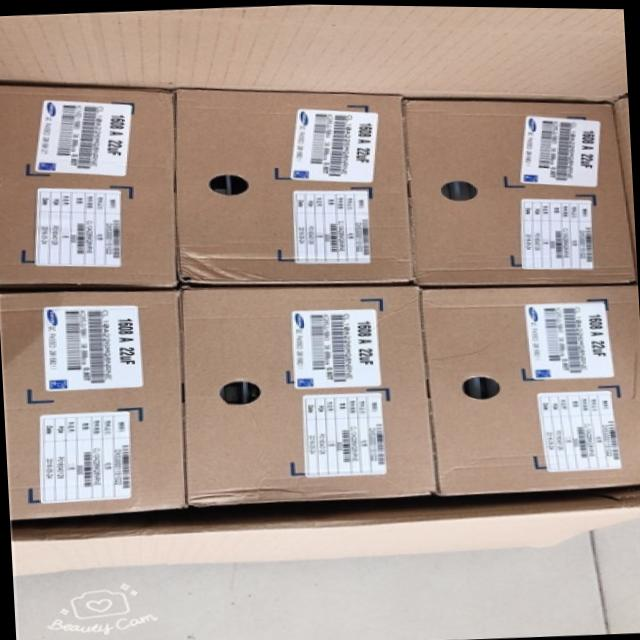box: (0, 4, 640, 575), (182, 282, 440, 506), (421, 278, 640, 491), (177, 89, 417, 282), (405, 96, 636, 282), (0, 291, 186, 517), (0, 83, 179, 289)
